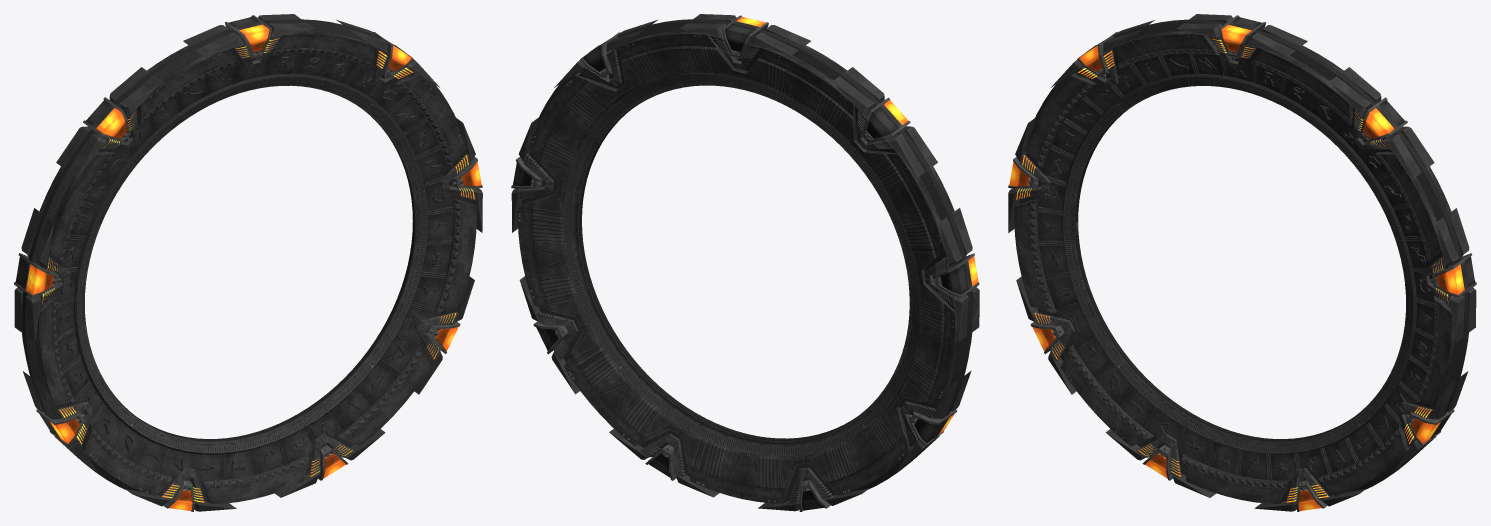
The model's file is StarGateGLTF.glb.
3 views of the same model, side by side, from view 1: azimuth 30°, elevation 25°; view 2: azimuth 150°, elevation 25°; view 3: azimuth 330°, elevation 25° (orthographic).
Parts seen in each view (by area): view 1: gate_Gate_0; view 2: gate_Gate_0; view 3: gate_Gate_0.
Boxes of the visible parts, bbox=[...] form: gate_Gate_0: bbox=[14, 14, 482, 511]; gate_Gate_0: bbox=[511, 14, 979, 511]; gate_Gate_0: bbox=[1008, 14, 1476, 511].
Size of the model in its own units: 6.78 by 6.8 by 0.5528.
Materials: 4 (4 with a texture image).
